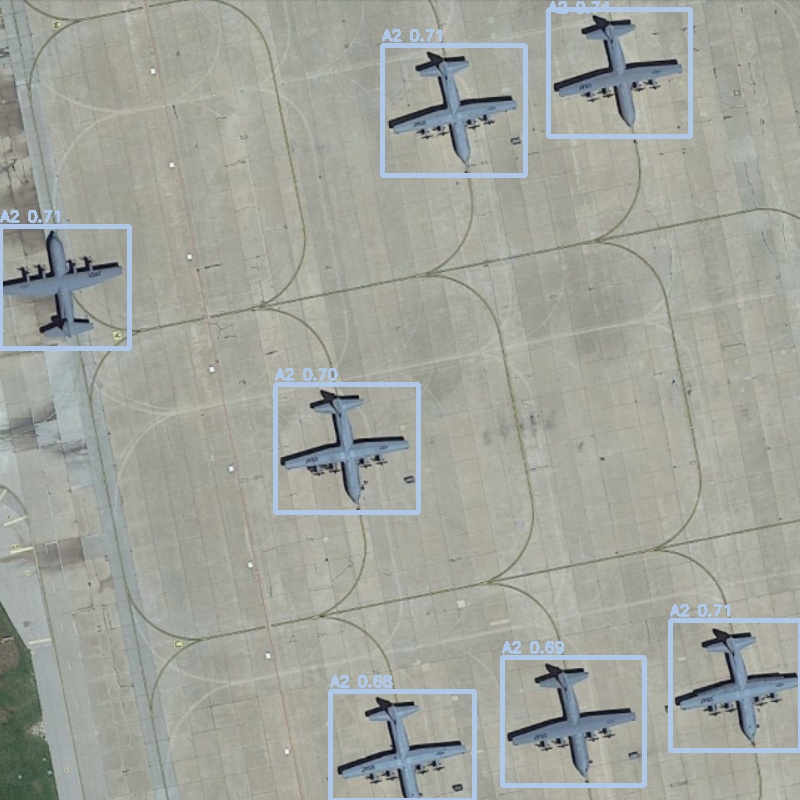A2: (382, 45, 525, 175), (275, 384, 418, 512), (502, 657, 644, 785), (548, 9, 690, 136), (670, 620, 800, 750), (0, 226, 129, 348), (330, 691, 474, 800)
